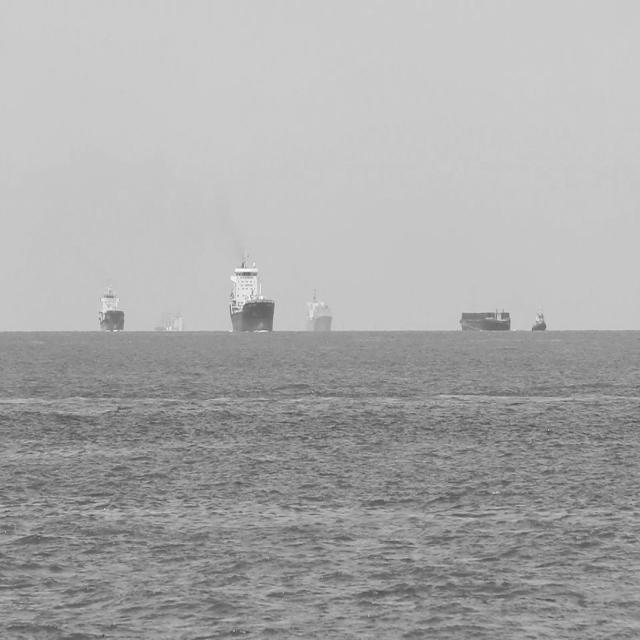ship: (226, 245, 276, 336), (456, 300, 514, 333), (96, 274, 124, 337), (303, 284, 335, 338), (527, 308, 548, 336)
